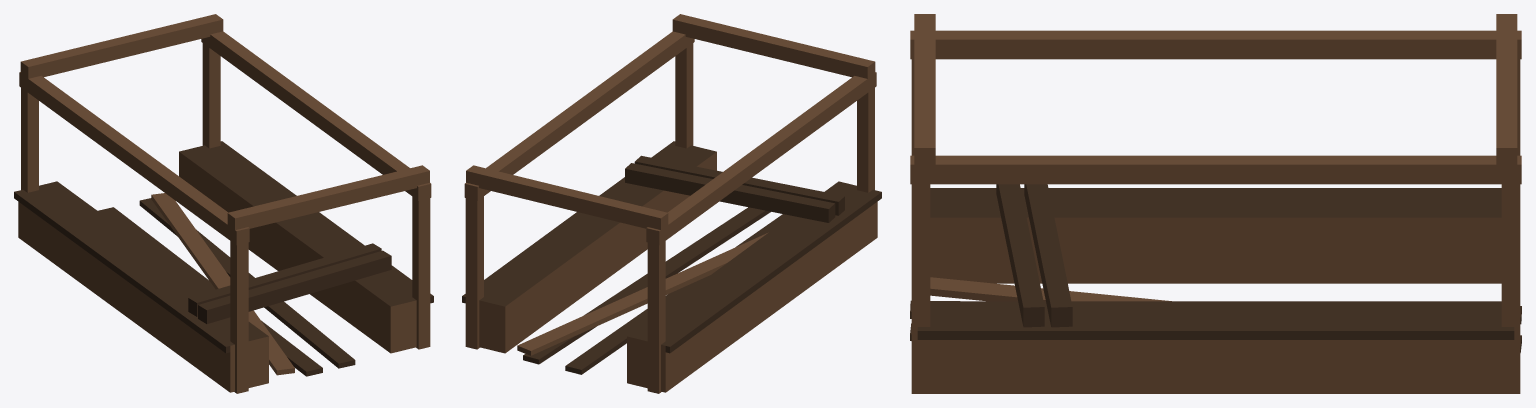
Rendered from market_build_mat.fbx.
The picture shows the model from 3 angles, left to right: view 1: azimuth 30°, elevation 25°; view 2: azimuth 150°, elevation 25°; view 3: azimuth 270°, elevation 25°; orthographic projection. The views are drawn at different scales.
Parts seen in each view (by area): view 1: market_build_mat; view 2: market_build_mat; view 3: market_build_mat.
Part boxes in pixels (x1,y1,x2,y2): market_build_mat: [14, 14, 433, 393]; market_build_mat: [462, 14, 881, 393]; market_build_mat: [910, 14, 1521, 393].
Size of the model in its own units: 262 by 210 by 473.
